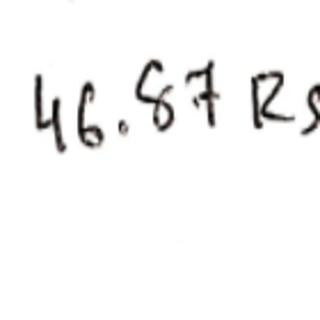.: (112, 114, 133, 138)
1: (249, 76, 261, 132)
2: (259, 70, 292, 123)
4: (31, 69, 66, 155)
6: (75, 79, 106, 149)
7: (187, 61, 220, 131)
8: (135, 59, 175, 132)
